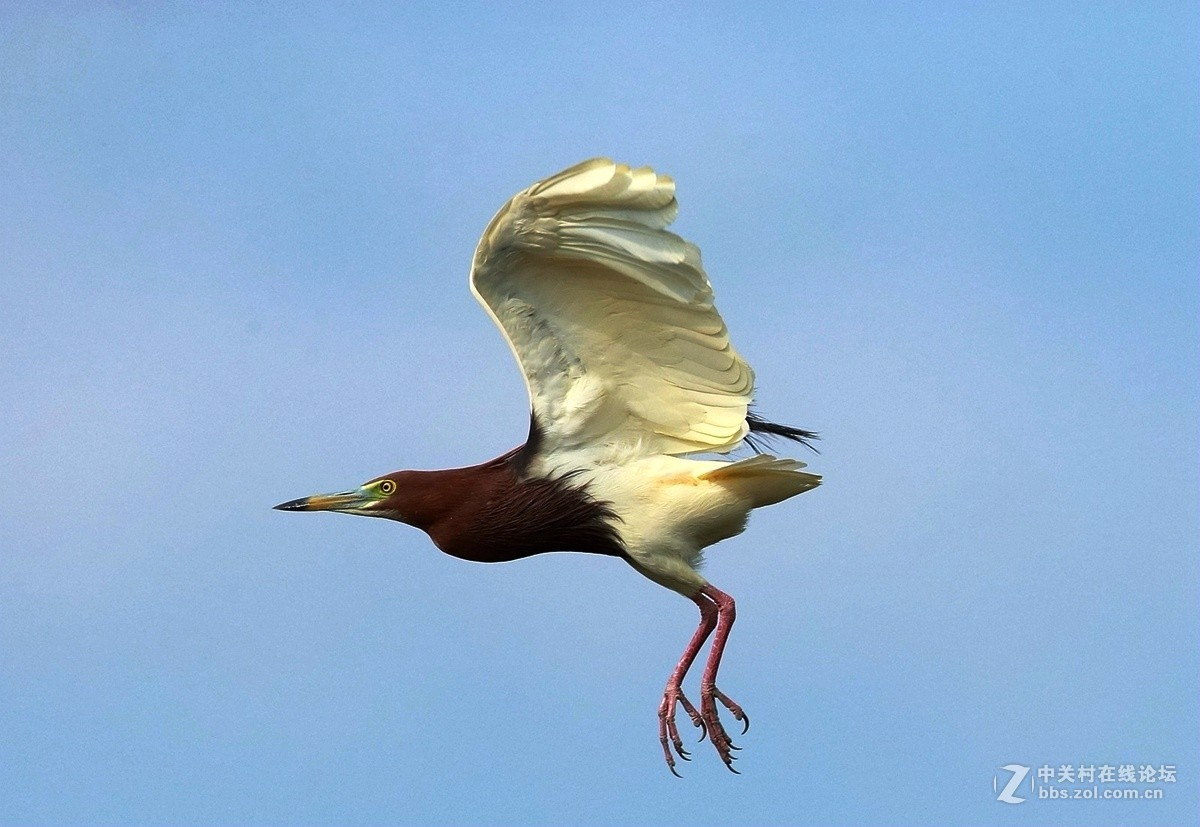bird: (268, 159, 832, 772)
